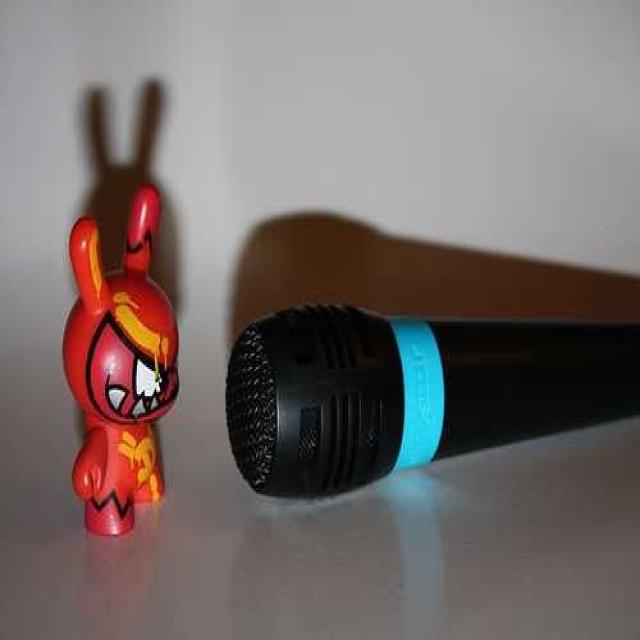microphone: (228, 296, 630, 500)
